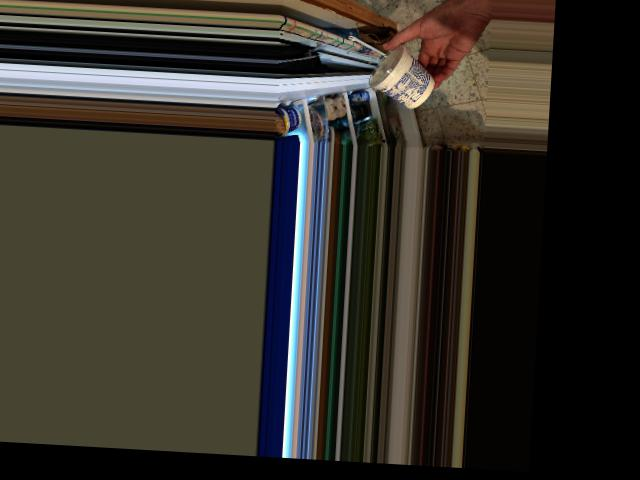cotage: (364, 42, 427, 107)
